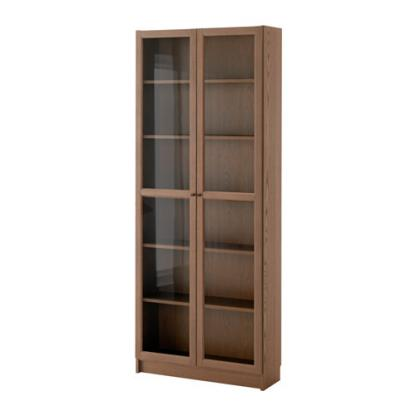Cabinet: (130, 23, 288, 392)
